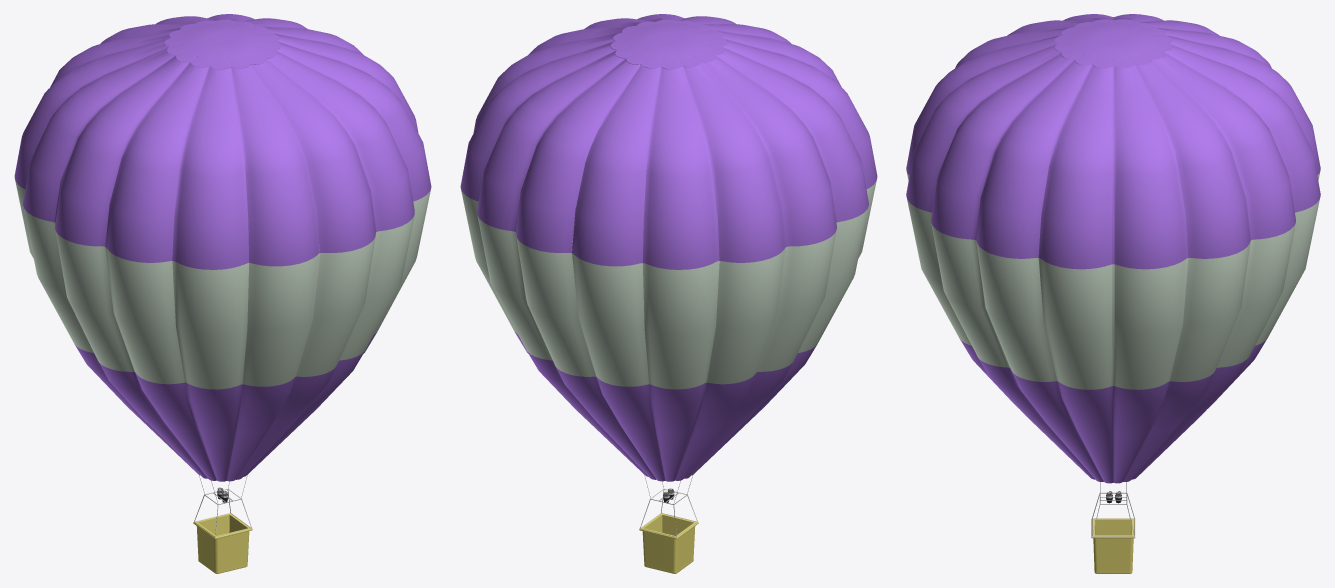
File: hotairballon1.glb
3 renders of one model, left to right at view 1: azimuth 30°, elevation 25°; view 2: azimuth 150°, elevation 25°; view 3: azimuth 270°, elevation 25°, orthographic.
Parts seen in each view (by area): view 1: hotairballon2; view 2: hotairballon2; view 3: hotairballon2.
Boxes of the visible parts, x1,y1,x2,y2 form: hotairballon2: (14, 14, 431, 573); hotairballon2: (460, 14, 877, 573); hotairballon2: (906, 14, 1320, 573).
Size of the model in its own units: 2.31 by 3.25 by 2.32.
